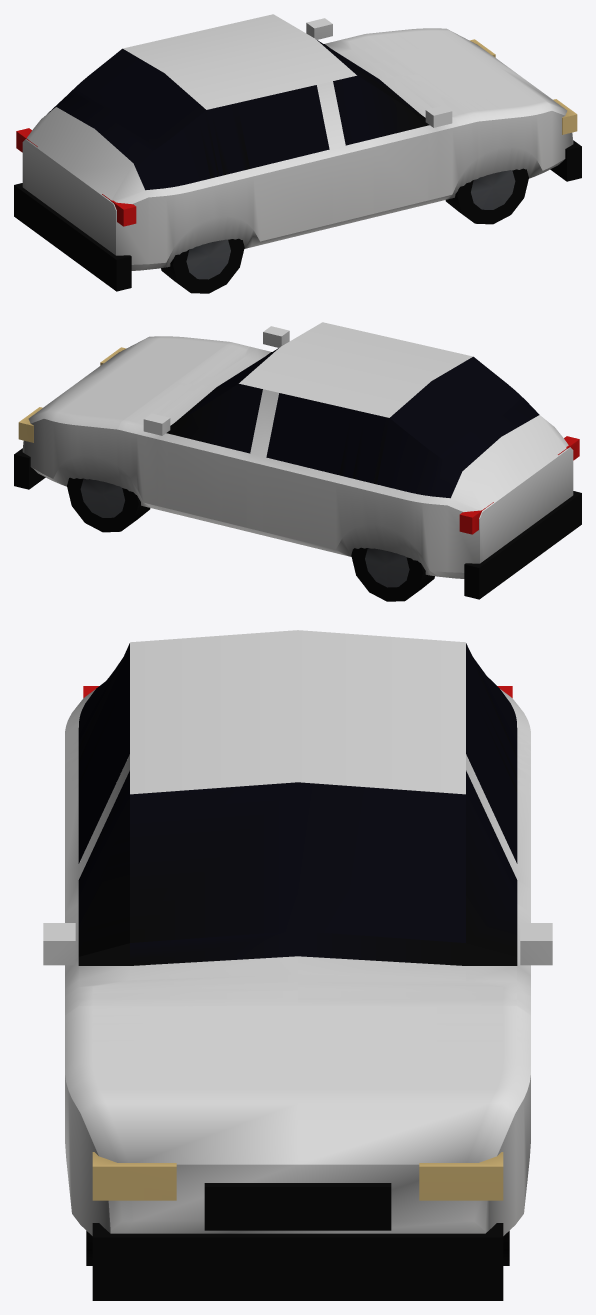
Rendered from hatch.glb.
The picture shows the model from 3 angles, top to bottom: view 1: azimuth 30°, elevation 25°; view 2: azimuth 150°, elevation 25°; view 3: azimuth 270°, elevation 25°; orthographic projection. The views are drawn at different scales.
Parts seen in each view (by area): view 1: paint, detail; view 2: paint, detail; view 3: paint, detail.
Boxes of the visible parts, box(x1,y1,x2,y2) form: paint: box(22, 14, 573, 270); detail: box(14, 39, 581, 293); paint: box(22, 322, 573, 578); detail: box(14, 347, 581, 601); paint: box(43, 630, 552, 1235); detail: box(78, 643, 517, 1300).
Bounding box in the file's own units: 1.32 × 0.4884 × 0.627.
